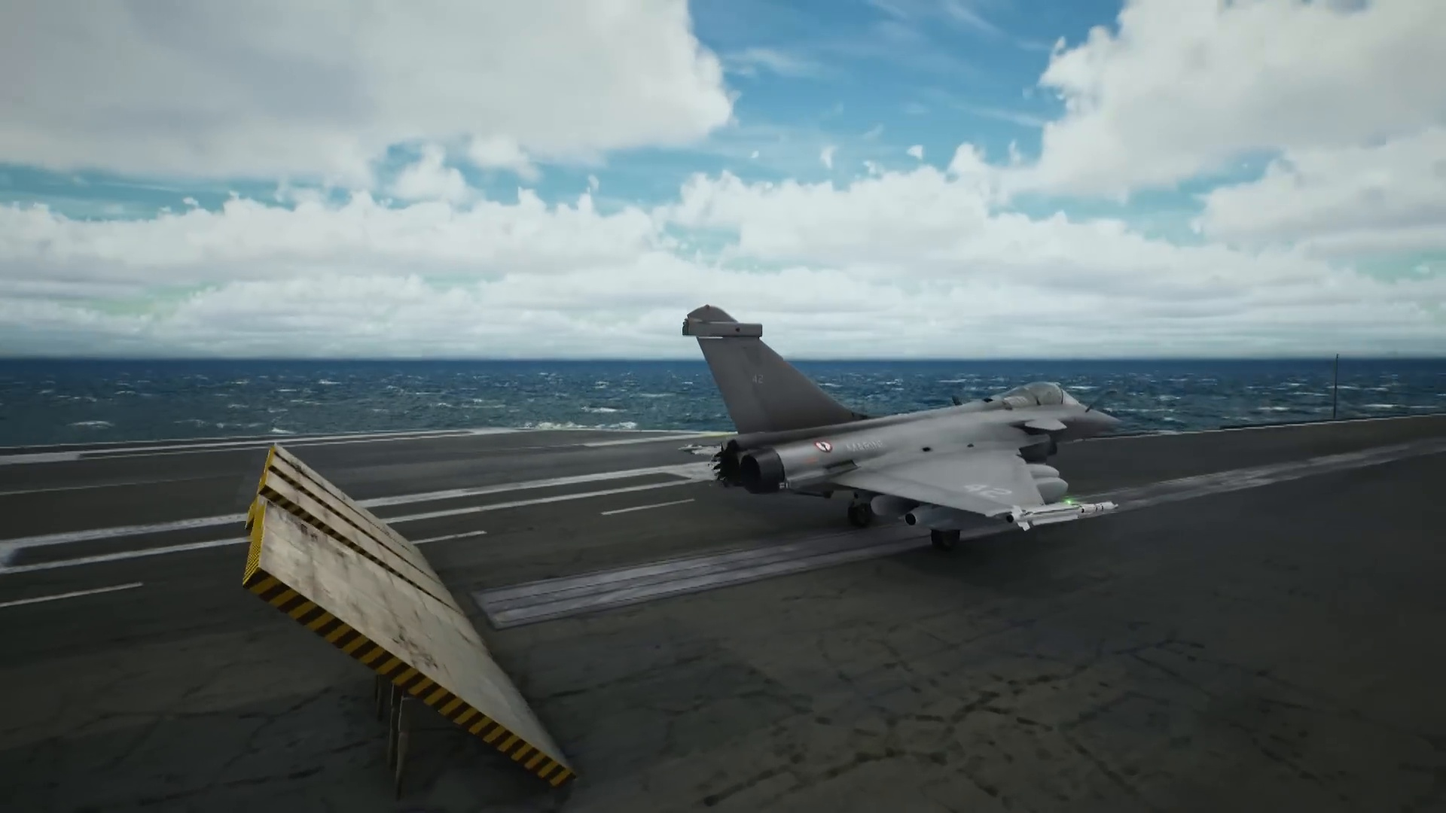Rafale: (675, 296, 1131, 560)
